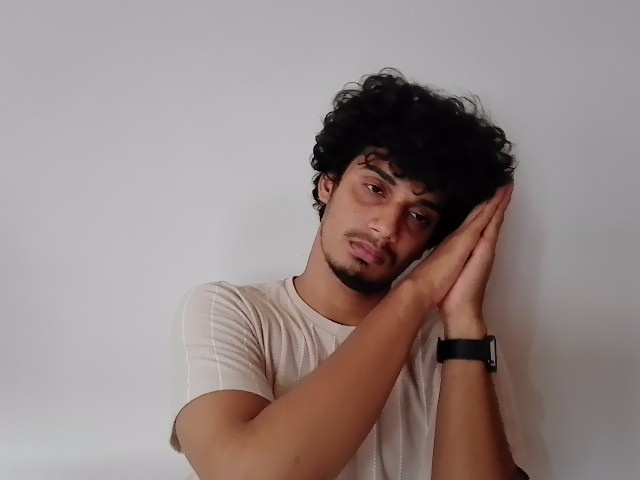sleep: (396, 164, 515, 316)
